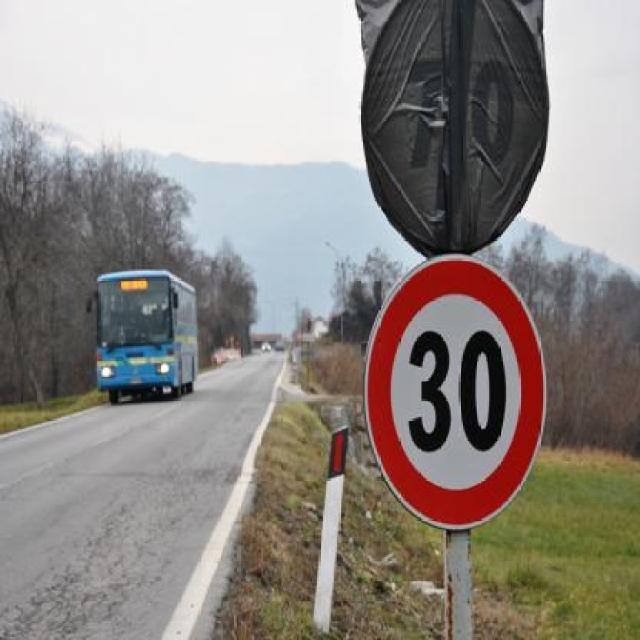Speed limit 30: (361, 252, 550, 533)
